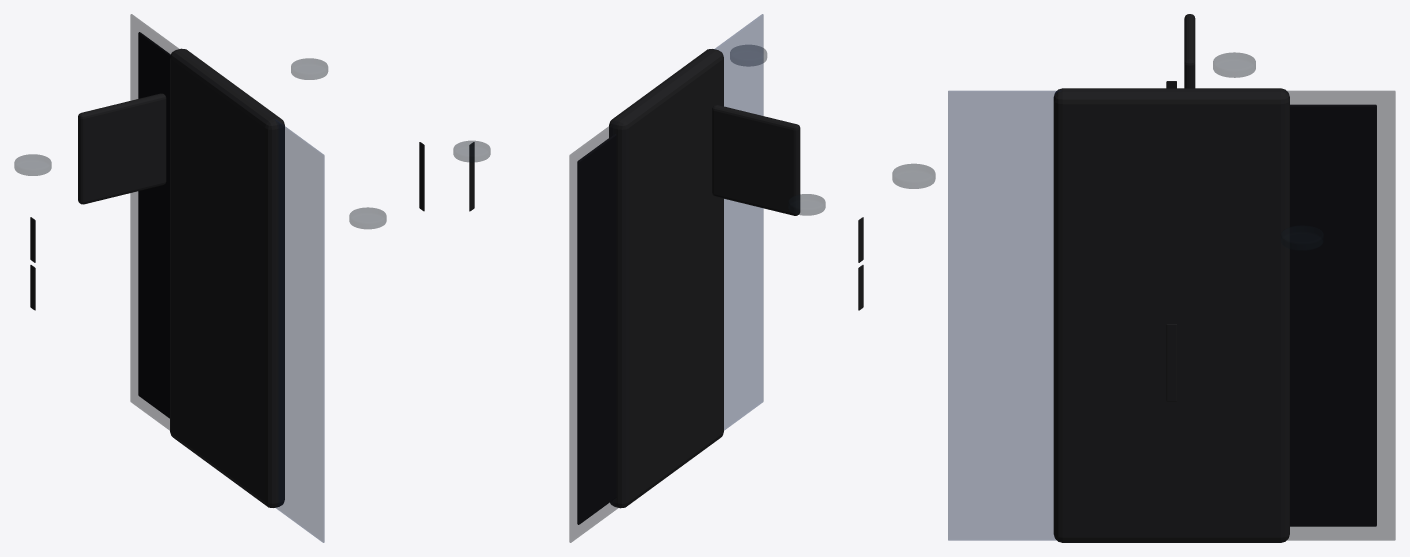
Rendered from iPhone_18_Pro.glb.
3 views of the same model, side by side, from view 1: azimuth 30°, elevation 25°; view 2: azimuth 150°, elevation 25°; view 3: azimuth 270°, elevation 25° (orthographic). The views are drawn at different scales.
Parts seen in each view (by area): view 1: frame.band, glass.back, display.panel, camera.island, glass.front, camera.lens_1, camera.lens_3, camera.lens_2; view 2: frame.band, display.panel, glass.back, camera.island, glass.front, camera.lens_1, camera.lens_3, camera.lens_2; view 3: frame.band, glass.back, display.panel, glass.front, camera.lens_2, camera.lens_1, camera.lens_3, camera.island, button.side.
Boxes of the visible parts, bbox=[...] form: frame.band: bbox=[170, 48, 284, 507]; glass.back: bbox=[275, 119, 324, 542]; display.panel: bbox=[138, 32, 170, 418]; camera.island: bbox=[78, 93, 166, 204]; glass.front: bbox=[130, 14, 179, 430]; camera.lens_1: bbox=[14, 154, 51, 175]; camera.lens_3: bbox=[291, 58, 327, 79]; camera.lens_2: bbox=[349, 207, 386, 228]; frame.band: bbox=[609, 49, 723, 508]; display.panel: bbox=[577, 134, 616, 524]; glass.back: bbox=[714, 14, 763, 430]; camera.island: bbox=[712, 105, 800, 215]; glass.front: bbox=[569, 119, 618, 542]; camera.lens_1: bbox=[788, 194, 825, 215]; camera.lens_3: bbox=[453, 141, 490, 162]; camera.lens_2: bbox=[730, 45, 766, 66]; frame.band: bbox=[1053, 88, 1289, 542]; glass.back: bbox=[948, 91, 1059, 540]; display.panel: bbox=[1290, 104, 1376, 526]; glass.front: bbox=[1283, 91, 1395, 540]; camera.lens_2: bbox=[892, 164, 935, 188]; camera.lens_1: bbox=[1213, 52, 1255, 77]; camera.lens_3: bbox=[1281, 225, 1323, 250]; camera.island: bbox=[1184, 14, 1195, 88]; button.side: bbox=[1166, 324, 1176, 401].
Bounding box in the file's own units: 0.1714 × 0.163 × 0.1652.
